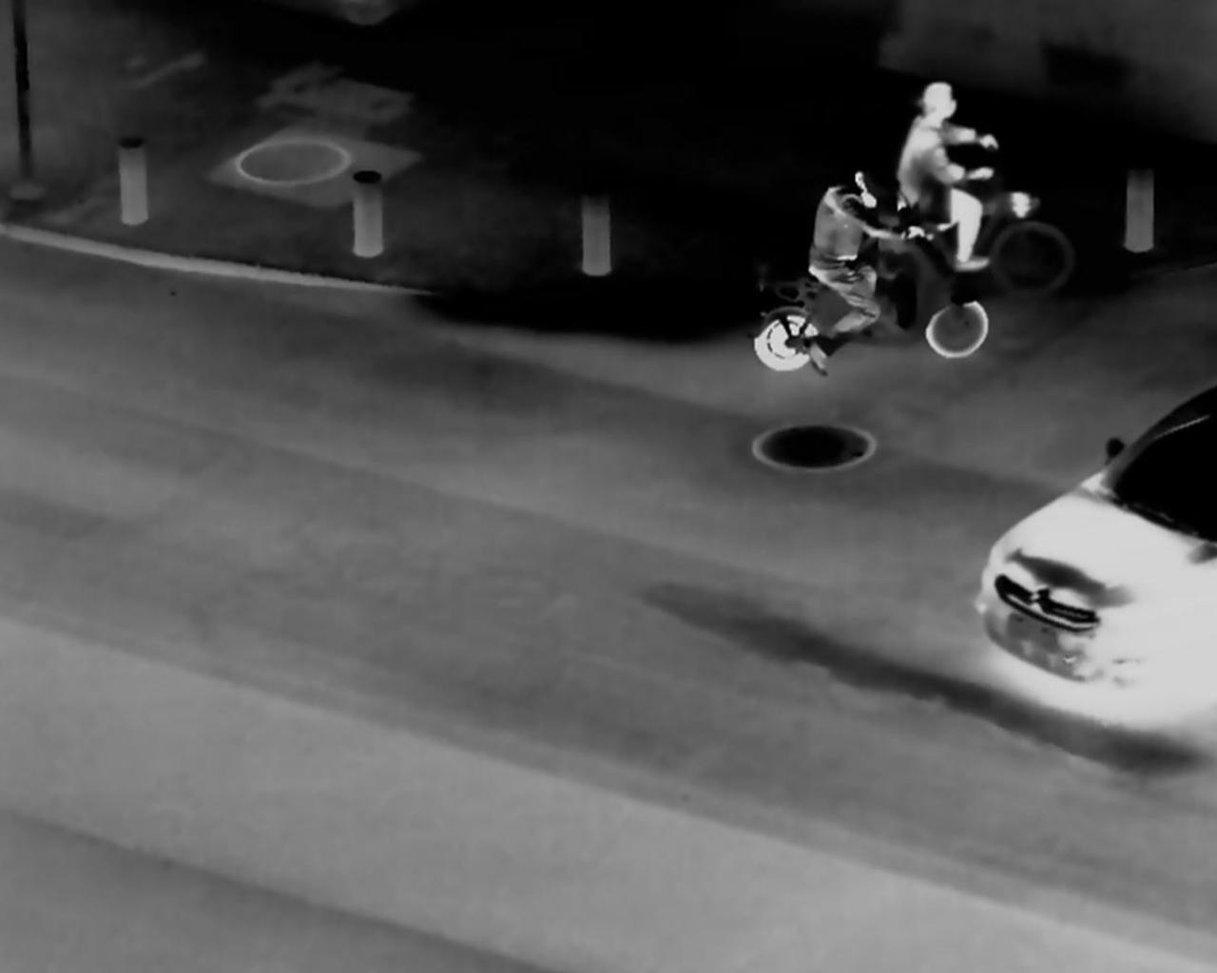person: (889, 74, 992, 277), (791, 167, 890, 358)
